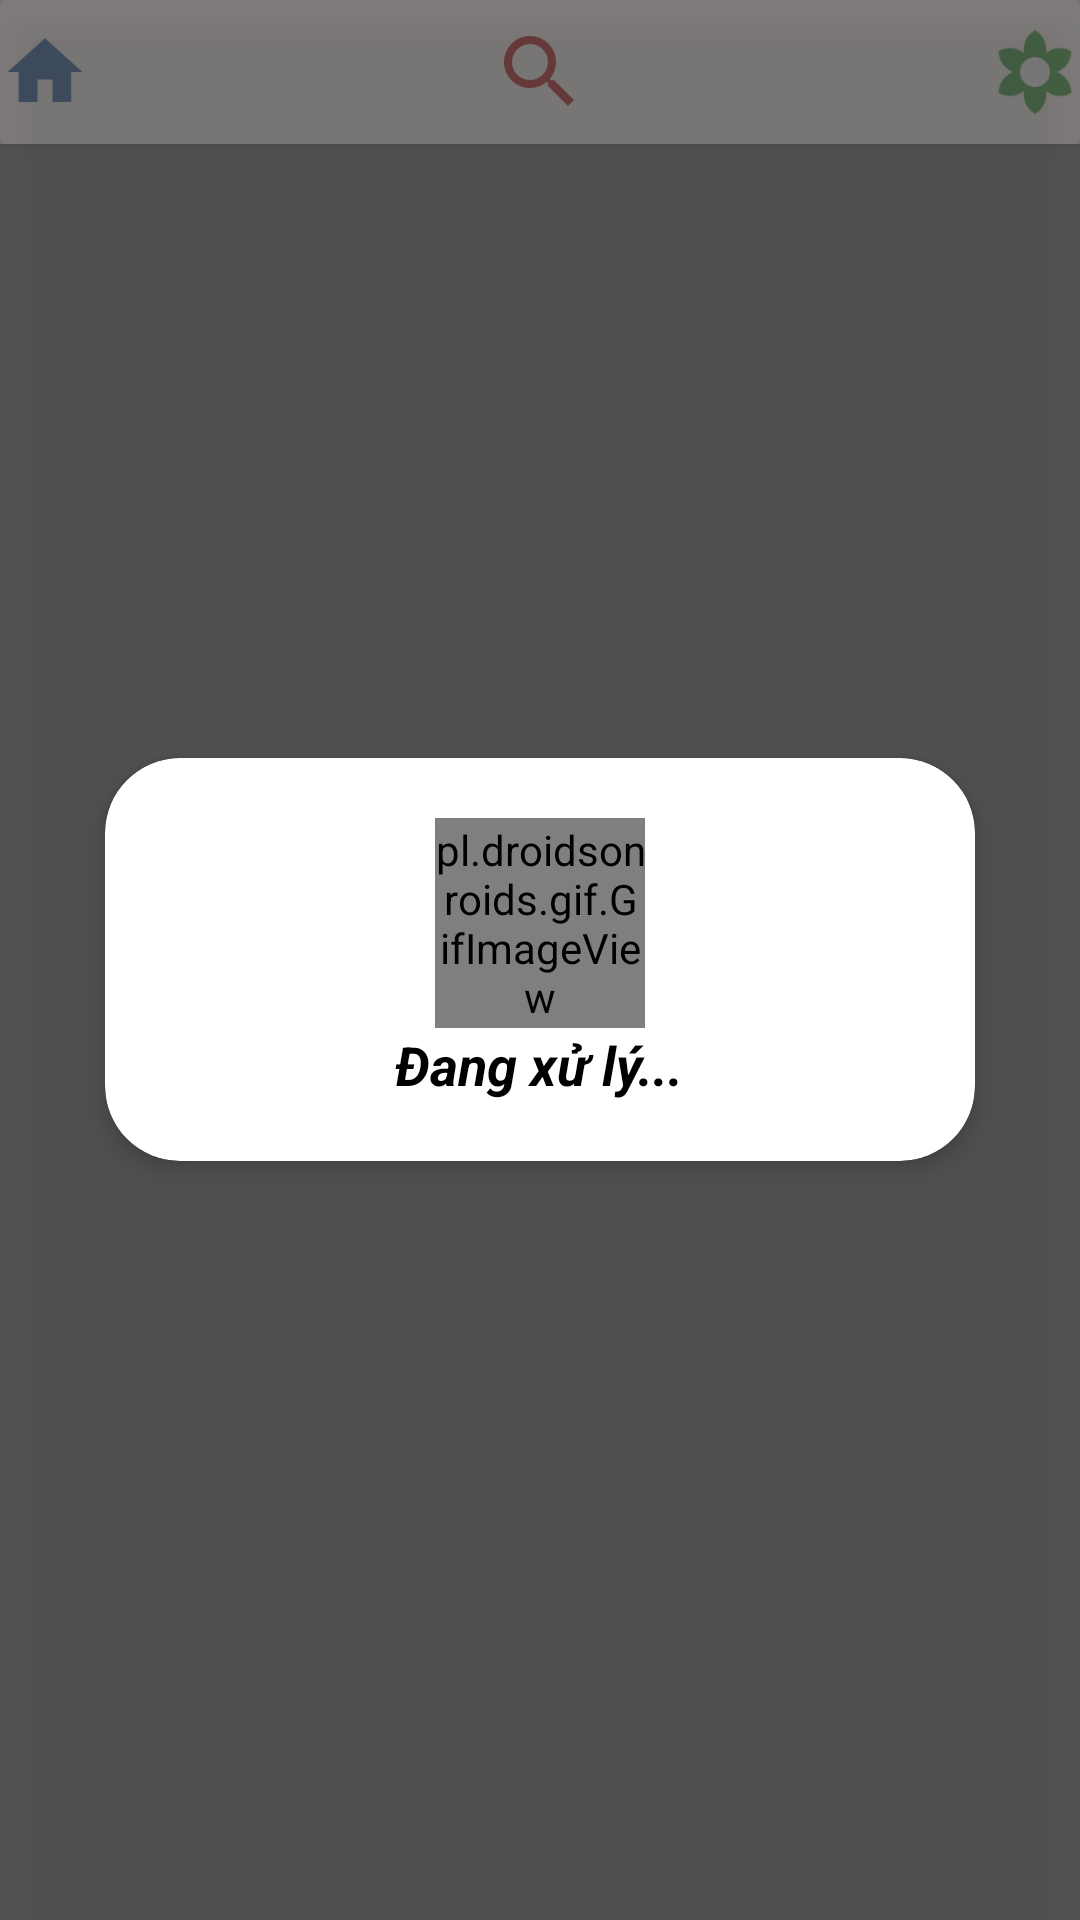

Icons on this 1080px x 1920px Android screen, each with the point to tap as (x=x, y=y):
home: (x=45, y=70)
